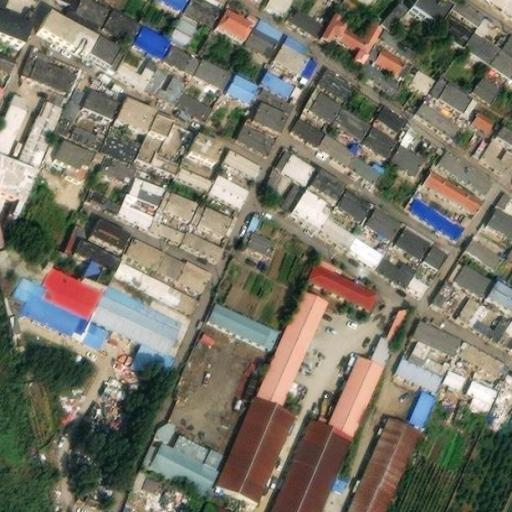building: (217, 284, 328, 494), (345, 385, 436, 512), (269, 411, 354, 512), (15, 255, 108, 334), (325, 330, 395, 429), (92, 277, 184, 350), (144, 412, 229, 487), (125, 230, 211, 289), (114, 250, 200, 308), (356, 19, 421, 87), (237, 78, 297, 146), (307, 248, 379, 302), (116, 92, 172, 157), (210, 295, 284, 344), (318, 7, 385, 58), (435, 141, 495, 190), (424, 159, 484, 207), (20, 93, 62, 161), (21, 39, 80, 85), (41, 1, 100, 47), (74, 229, 123, 280), (409, 189, 463, 231), (291, 178, 338, 225), (272, 27, 319, 73), (454, 333, 507, 373), (464, 12, 509, 58), (0, 87, 30, 153), (467, 292, 512, 336), (416, 88, 464, 129), (412, 311, 462, 350), (242, 10, 287, 53), (450, 252, 497, 293), (427, 70, 474, 110), (468, 70, 512, 112), (407, 331, 453, 371), (145, 60, 189, 101), (130, 337, 175, 377), (207, 163, 253, 202), (115, 44, 158, 84), (240, 207, 278, 252), (389, 123, 425, 170), (101, 0, 144, 38), (396, 351, 442, 386), (193, 48, 235, 85), (359, 117, 401, 154), (192, 197, 235, 233), (176, 147, 218, 183), (132, 18, 172, 55), (80, 81, 124, 114), (316, 61, 355, 98), (331, 98, 371, 134), (159, 183, 200, 218), (185, 128, 227, 162), (479, 127, 512, 170), (161, 35, 201, 70), (88, 28, 128, 63), (308, 161, 348, 196), (128, 169, 168, 203), (464, 229, 504, 263), (55, 132, 97, 164), (283, 0, 326, 31), (91, 215, 130, 249), (376, 250, 418, 281), (305, 81, 342, 116), (338, 180, 376, 214), (347, 228, 386, 261), (371, 100, 408, 134), (262, 63, 300, 96), (176, 84, 214, 117), (367, 199, 405, 232), (395, 217, 433, 250), (319, 210, 357, 243), (118, 189, 153, 224), (167, 7, 201, 43), (180, 226, 222, 255), (281, 145, 318, 177), (227, 63, 262, 96), (402, 56, 438, 88), (320, 127, 357, 158), (467, 373, 497, 411), (222, 141, 261, 170), (349, 146, 385, 177), (182, 0, 226, 25), (86, 181, 125, 209), (466, 95, 499, 128), (147, 212, 185, 239), (102, 148, 137, 177), (293, 110, 328, 139), (68, 0, 113, 22), (431, 270, 459, 304), (485, 273, 512, 308), (491, 29, 512, 72), (82, 313, 111, 343), (486, 199, 512, 232), (279, 176, 305, 207), (455, 289, 481, 318), (152, 143, 182, 167), (423, 235, 450, 261), (441, 360, 469, 385), (75, 494, 107, 512), (383, 0, 408, 22), (407, 267, 430, 290), (205, 497, 240, 512), (495, 107, 512, 137)
